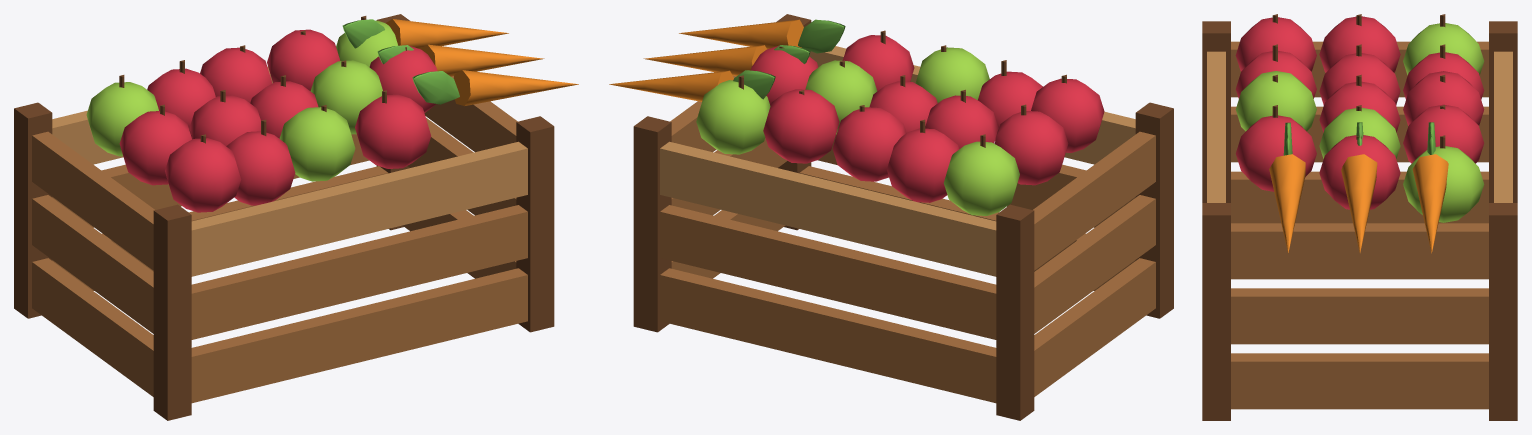
The model's file is ProduceCrate.glb.
The picture shows the model from 3 angles, left to right: view 1: azimuth 30°, elevation 25°; view 2: azimuth 150°, elevation 25°; view 3: azimuth 270°, elevation 25°; orthographic projection. The views are drawn at different scales.
Visible parts, largest first — view 1: Body, Rustle; view 2: Body, Rustle; view 3: Body, Rustle.
Part boxes in pixels (x1,y1,x2,y2): Body: [14, 14, 578, 420]; Rustle: [342, 19, 459, 104]; Body: [609, 14, 1173, 420]; Rustle: [733, 19, 845, 99]; Body: [1202, 14, 1517, 420]; Rustle: [1283, 122, 1435, 155].
Bounding box in the file's own units: 2.25 × 1.16 × 1.32.
2 materials, 2 textured.
